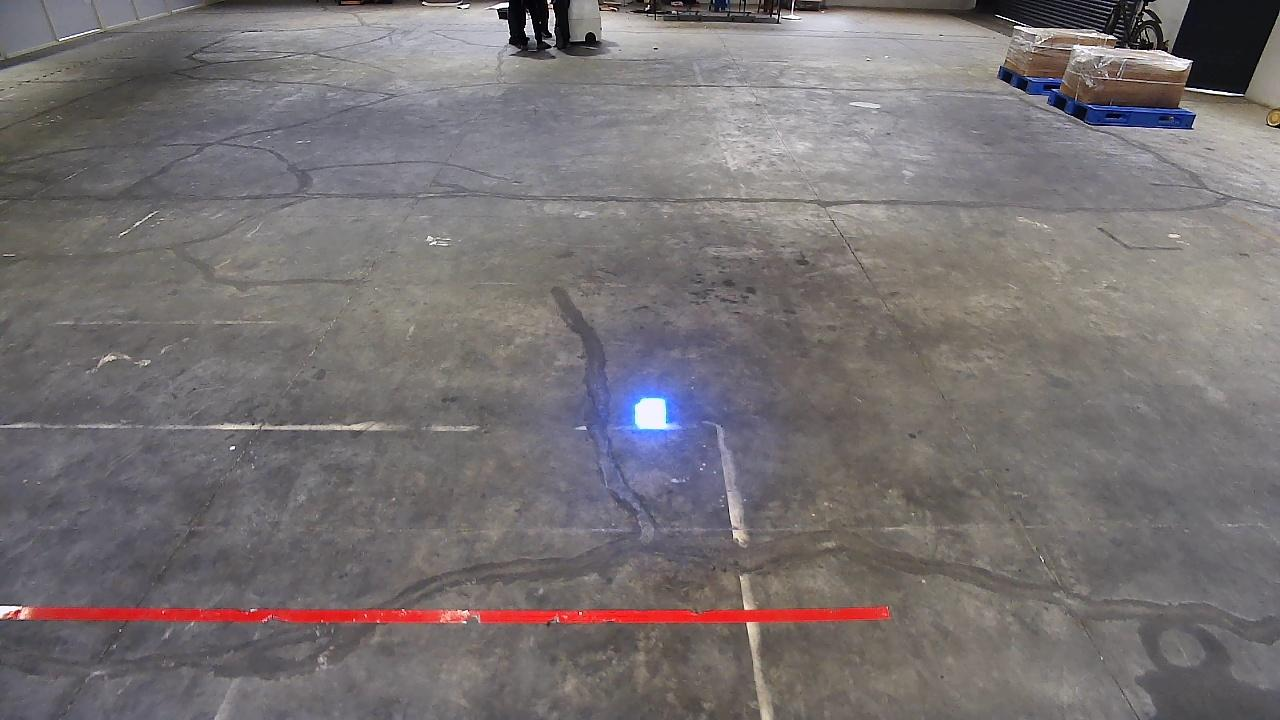red_line: (2, 604, 892, 622)
